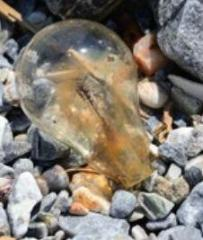lightbulb: (10, 17, 156, 189)
